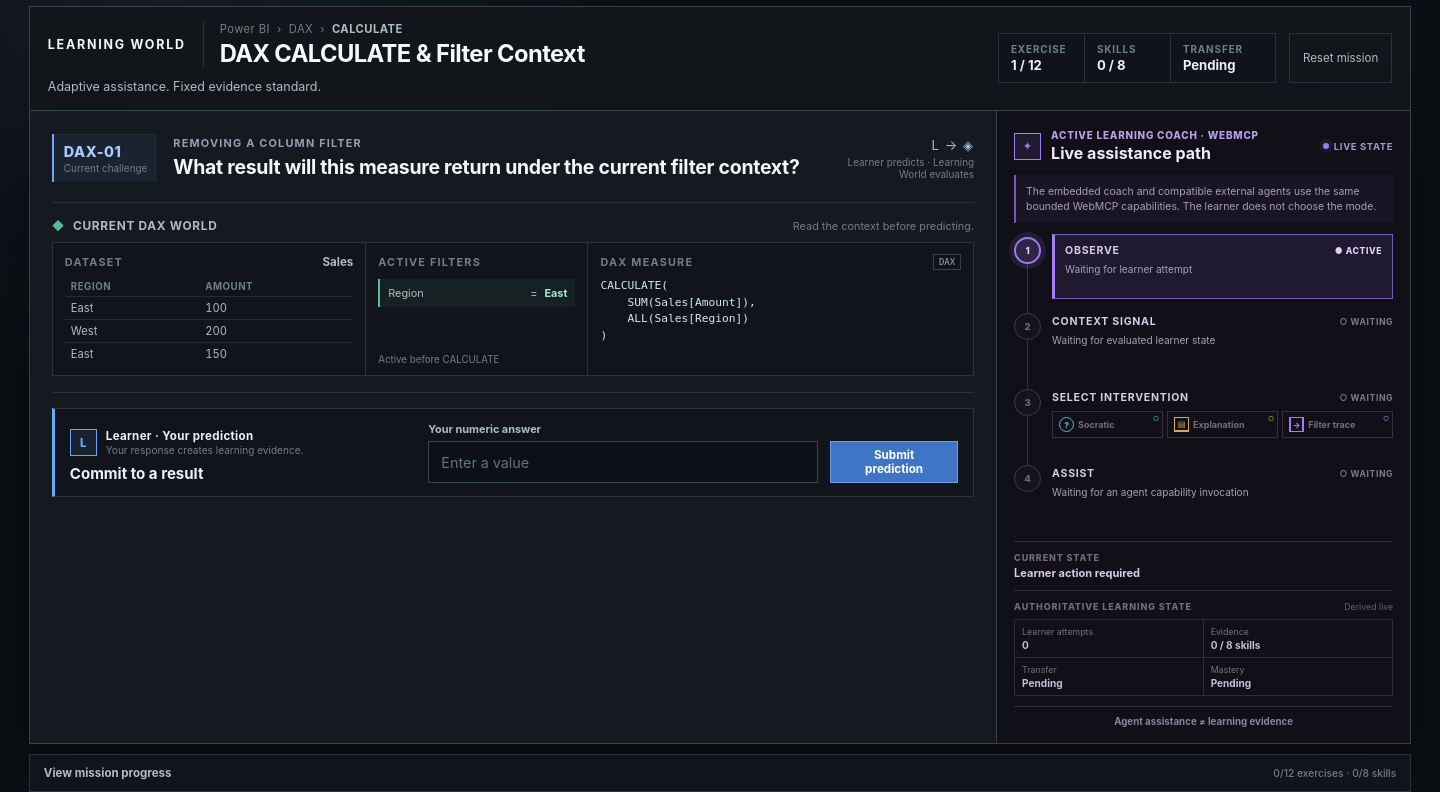
Test: embedded DAX Active Learning Coach flow › binds explanation selection to the real request_explanation WebMCP result and rail
Step 1. Type "250" into the number field labelled "Your numeric answer" → (623, 462), box [428,441,818,483]
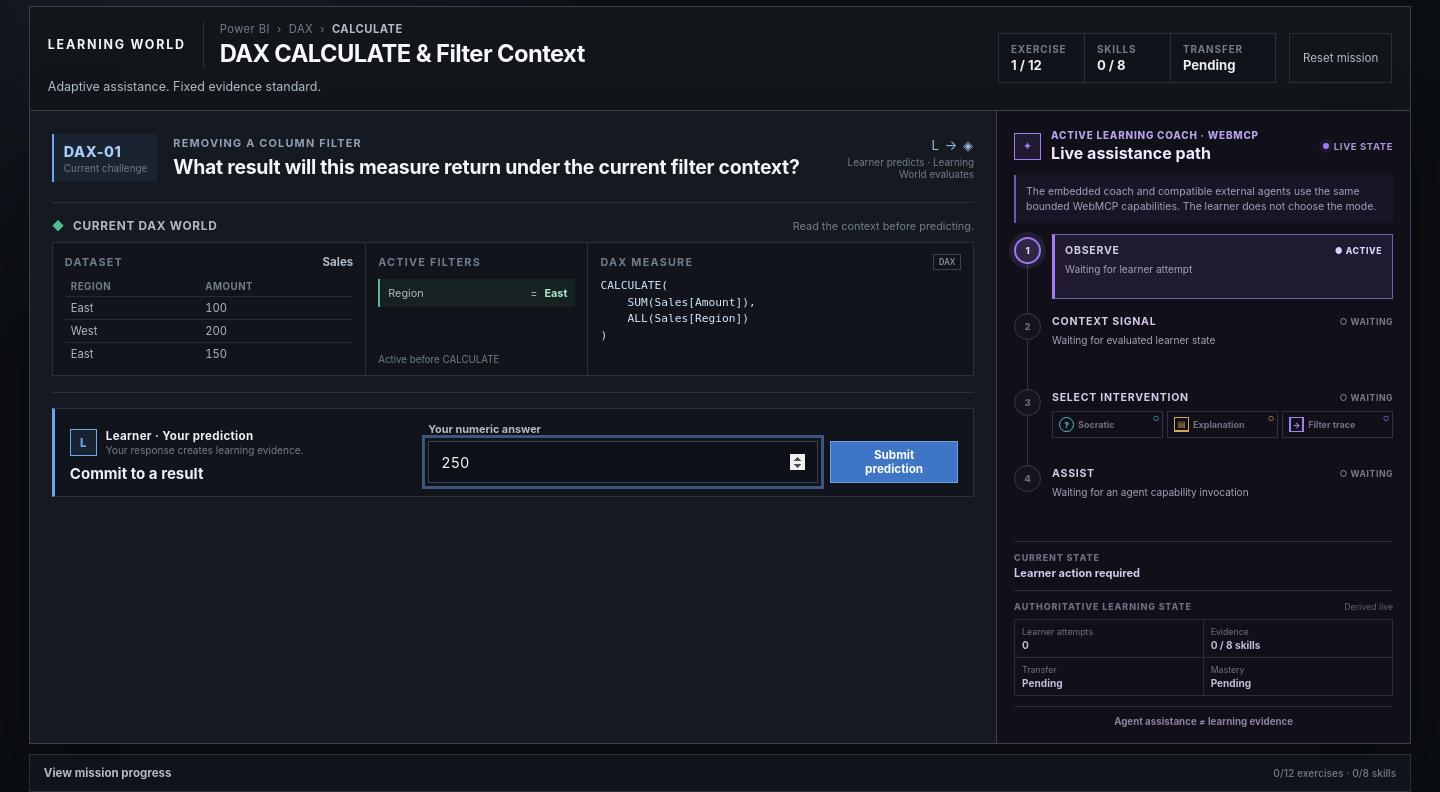
Step 2. Click the button "Submit prediction" → (894, 462), box [830,441,958,483]
(page scrolled)
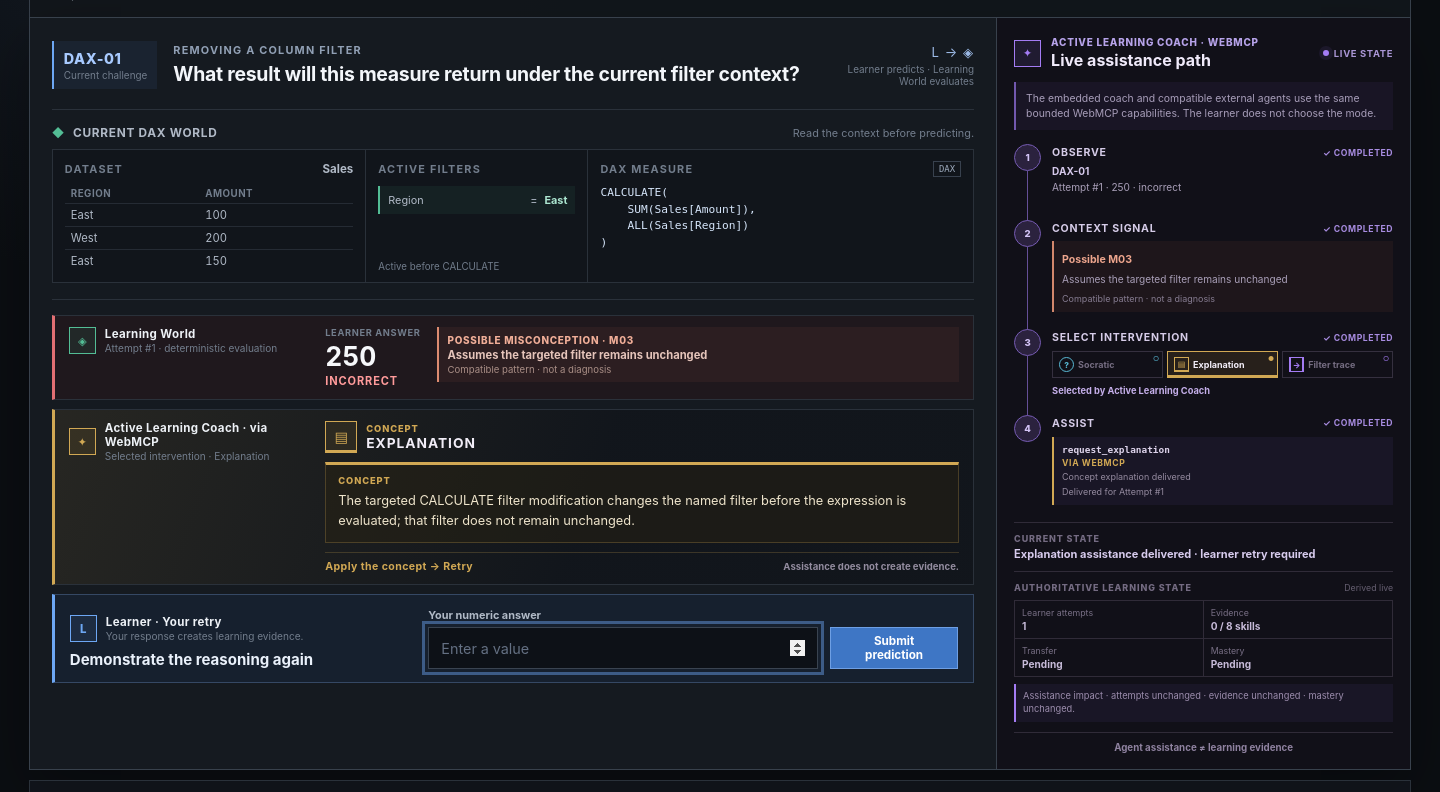
Expected: the text "request_explanation" is shown, [1062,444,1170,455]
Expected: the element named "AI Agent intervention" shows "Active Learning Coach · via WebMCP", [52,409,974,585]
Expected: the element named "AI Agent intervention" shows "Selected intervention · Explanation", [52,409,974,585]
